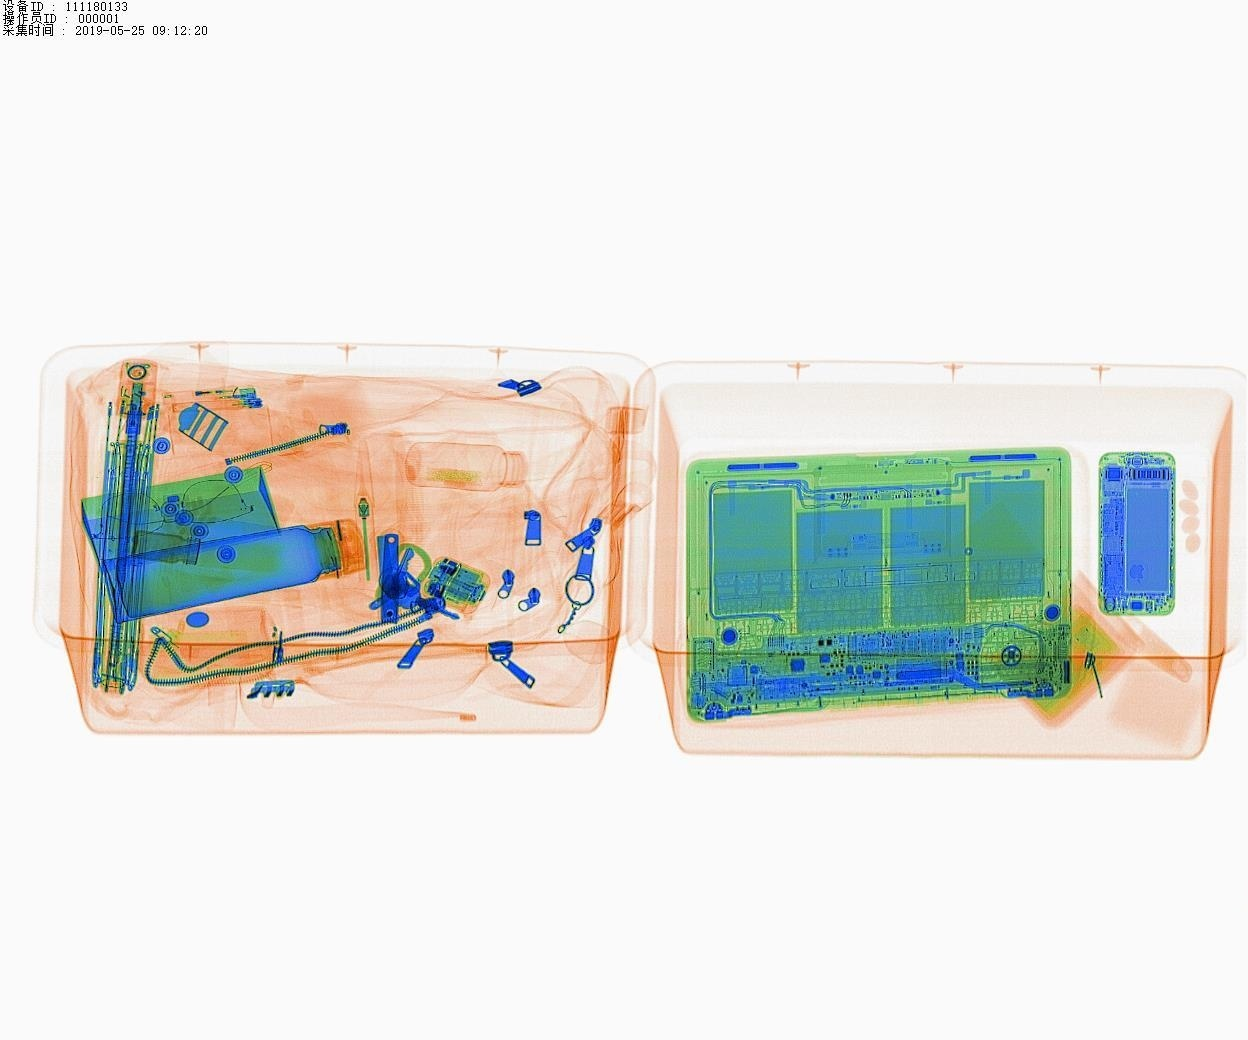NonmetallicFire: (163, 380, 276, 422)
